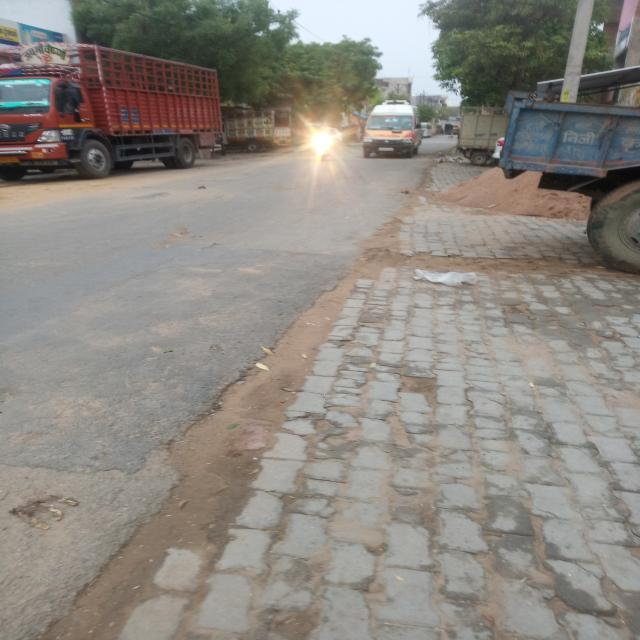car_front: (356, 93, 427, 165)
truck_front: (0, 38, 233, 186)
